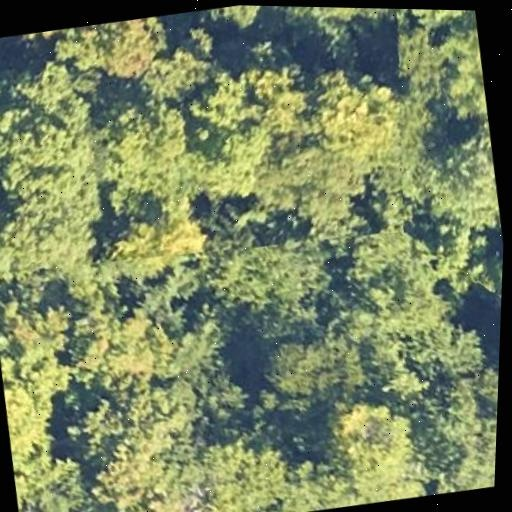tree-top: (186, 47, 416, 239), (0, 53, 126, 319), (323, 220, 474, 405), (53, 352, 227, 512), (282, 388, 440, 512), (52, 272, 189, 414), (82, 91, 218, 224), (0, 338, 102, 512), (205, 221, 343, 341), (246, 311, 377, 421), (383, 12, 492, 137), (408, 360, 499, 495), (93, 200, 223, 292), (406, 117, 504, 236), (186, 413, 297, 512), (145, 295, 240, 396), (53, 12, 175, 86), (420, 207, 505, 310), (0, 280, 80, 384), (131, 32, 211, 106), (272, 6, 397, 53), (179, 4, 278, 38), (382, 9, 476, 35)
